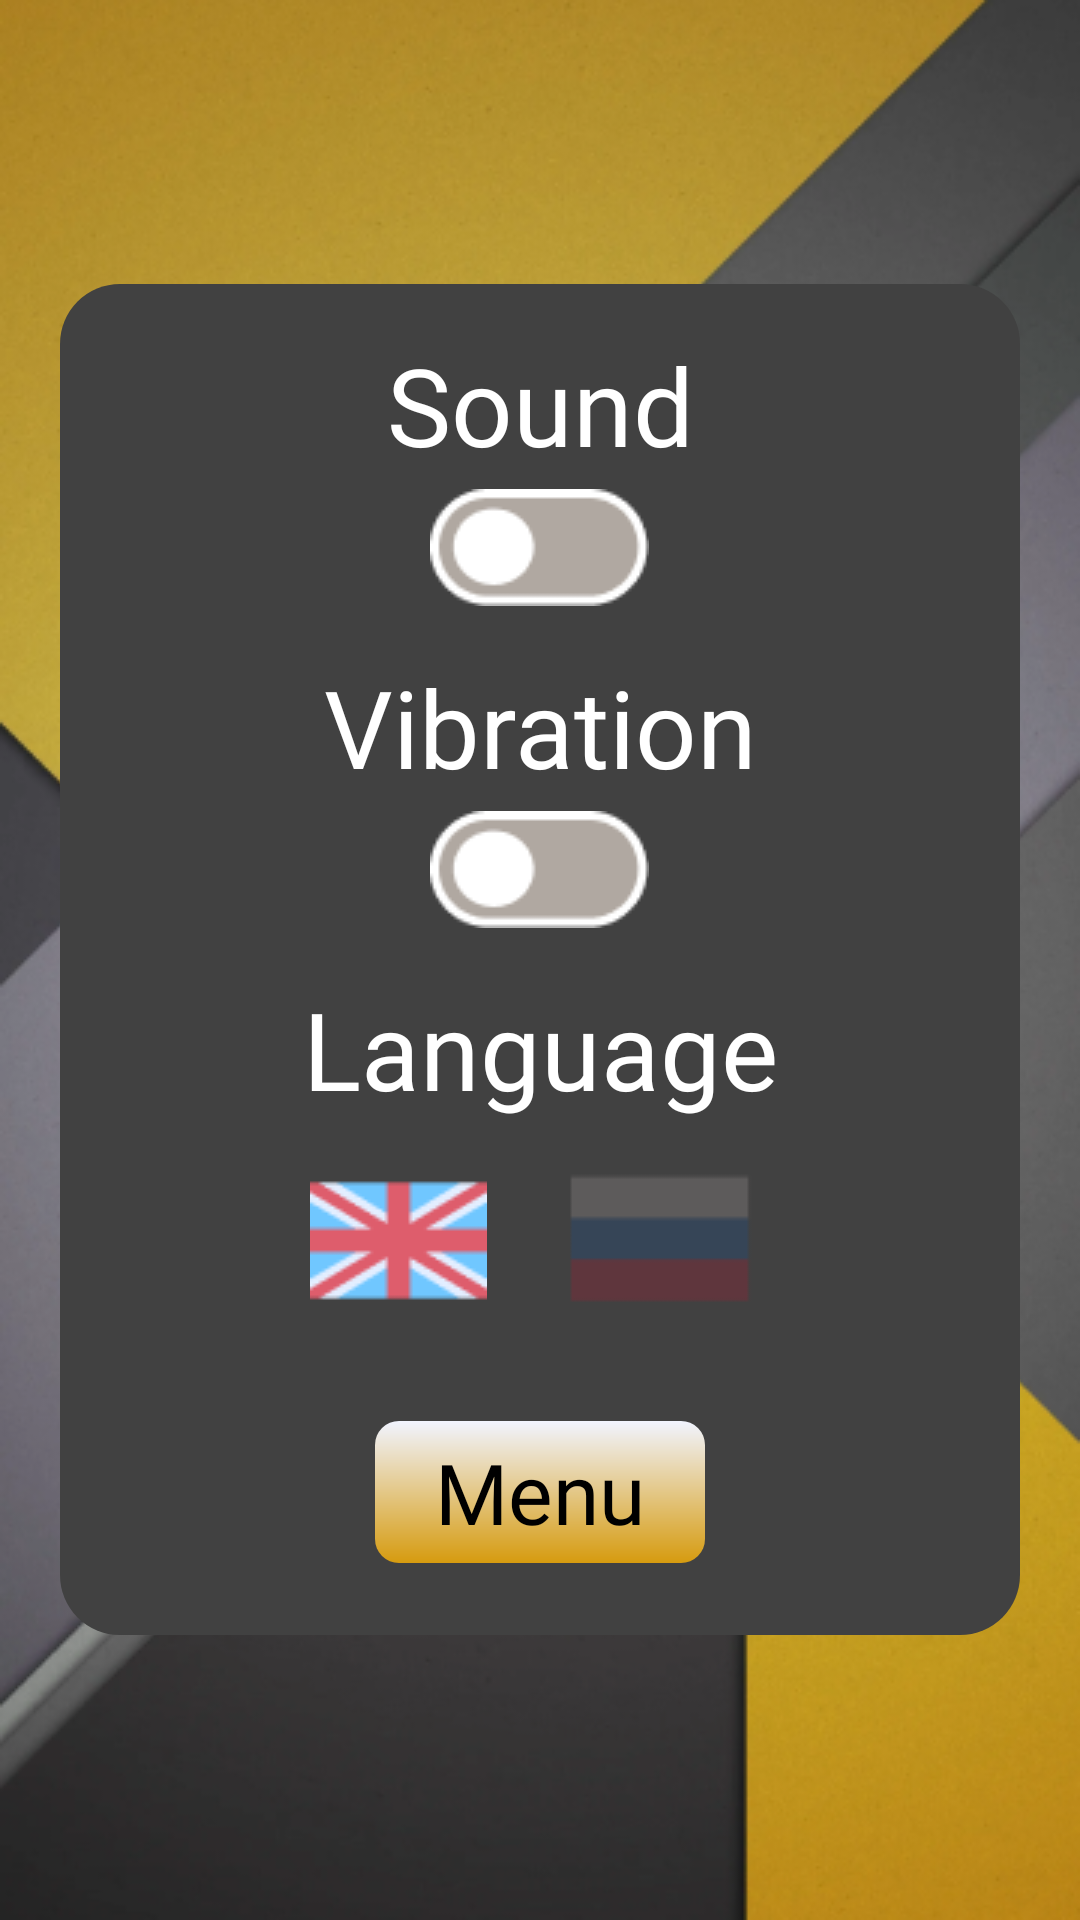

Screen size 1080x1920. Icon name, then its center in pixels as point (x, y):
ru non: point (659, 1239)
